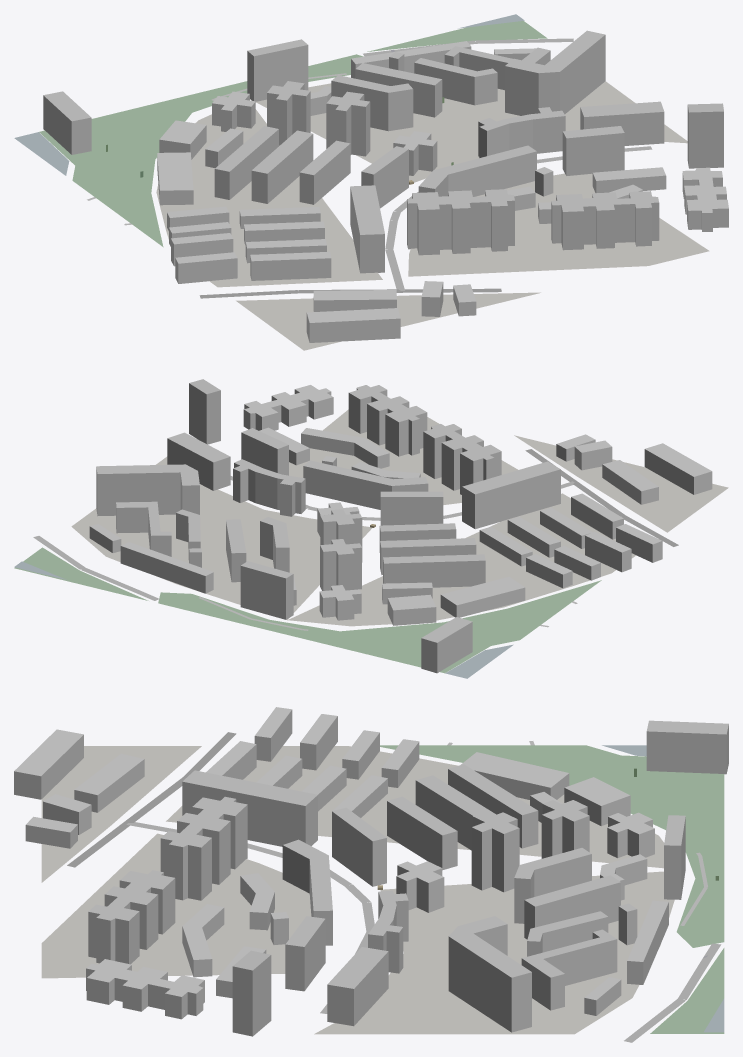
3 renders of one model, top to bottom at view 1: azimuth 30°, elevation 25°; view 2: azimuth 150°, elevation 25°; view 3: azimuth 270°, elevation 25°, orthographic. The views are drawn at different scales.
Size of the model in its own units: 544 by 54.74 by 524.
